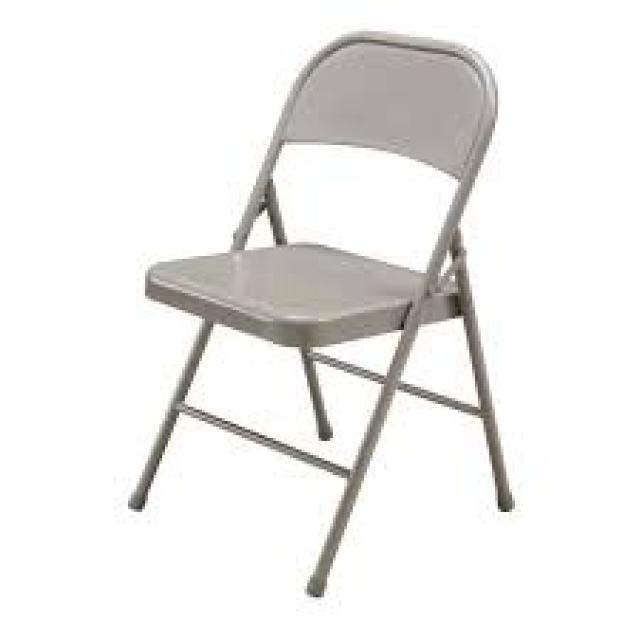chair: (28, 8, 583, 640)
